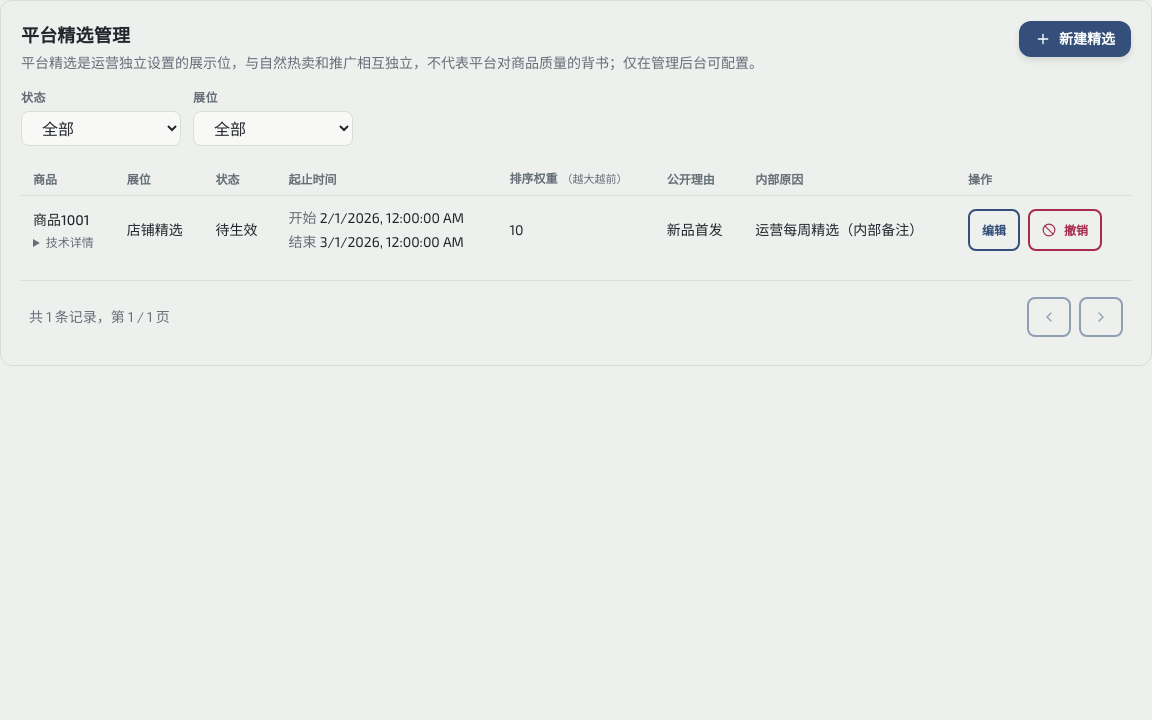
Test: AdminEditorialManager edit (T-MERCH-FE-003 §edit) › submits the exact update payload for feature 101 (all editable fields, never productId)
Check: the table named "平台精选列表" is shown, box x1=21 y1=162 x2=1131 y2=264
Click the button "编辑": (994, 230) x1=968 y1=209 x2=1020 y2=251
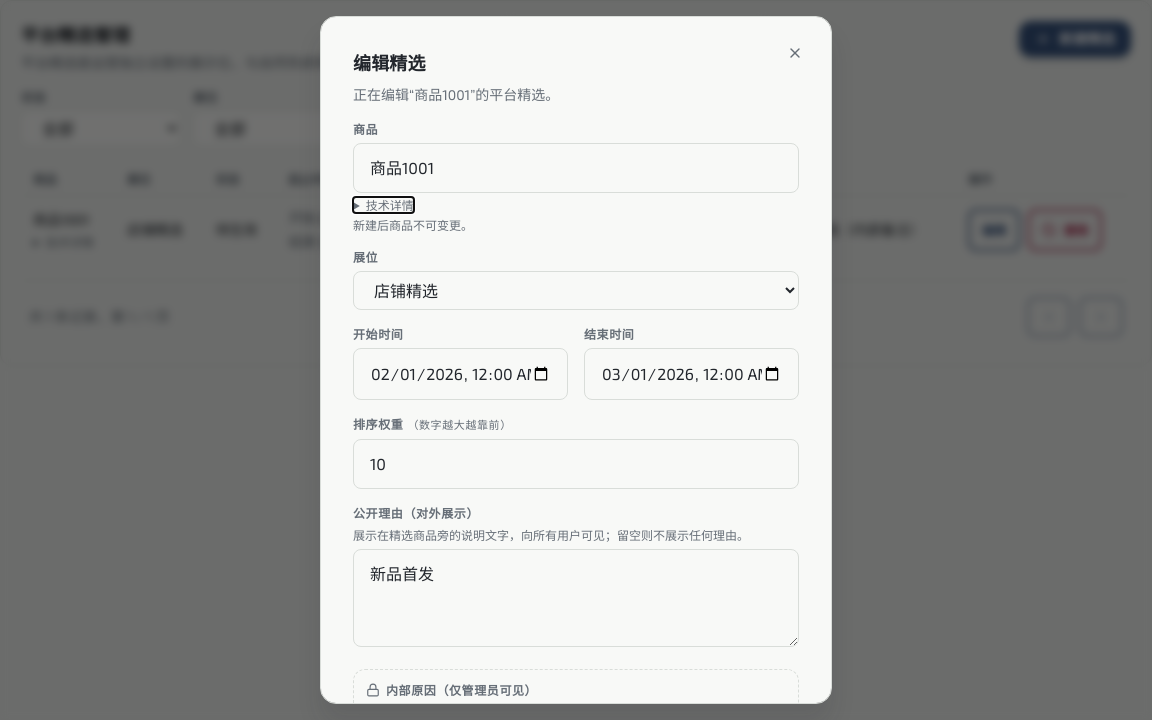
Select "分类精选" in the dropdown labelled "展位": (576, 290) x1=353 y1=271 x2=799 y2=310
Replace the text in the field labelled "开始时间" with "2099-06-01T09:30": (460, 374) x1=353 y1=348 x2=568 y2=400
Replace the text in the field labelled "结束时间" with "2099-07-01T18:45": (692, 374) x1=584 y1=348 x2=799 y2=400
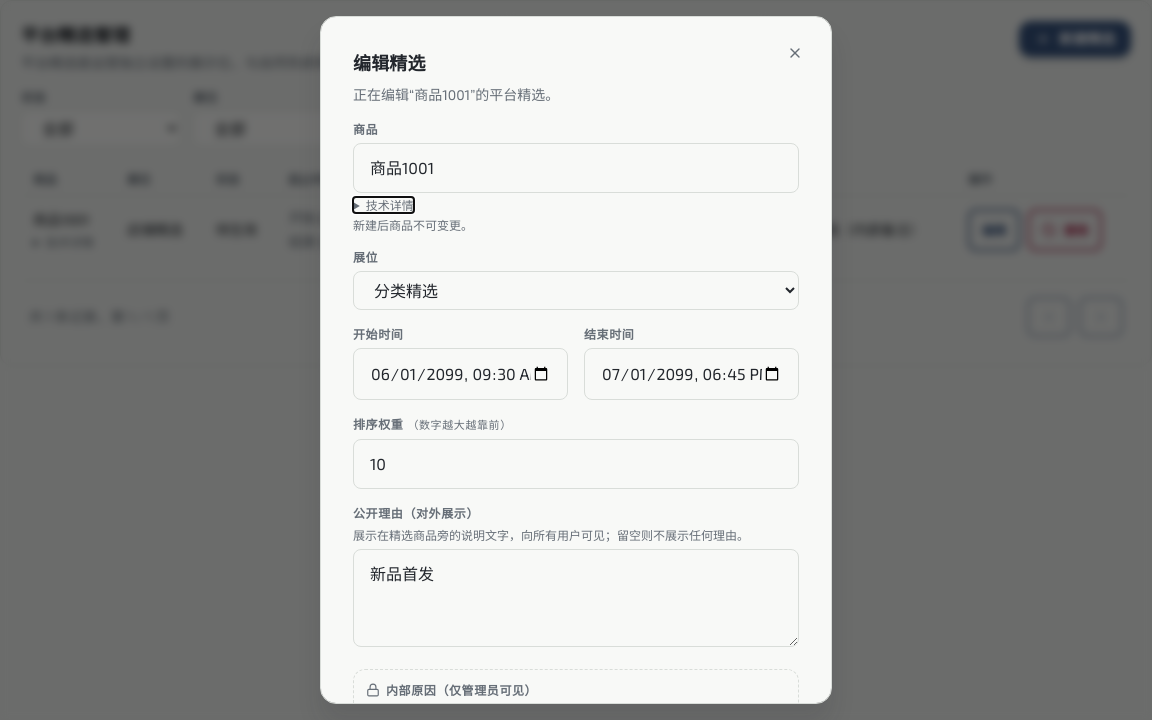
Replace the text in the number field labelled "权重" with "42": (576, 464) x1=353 y1=439 x2=799 y2=489
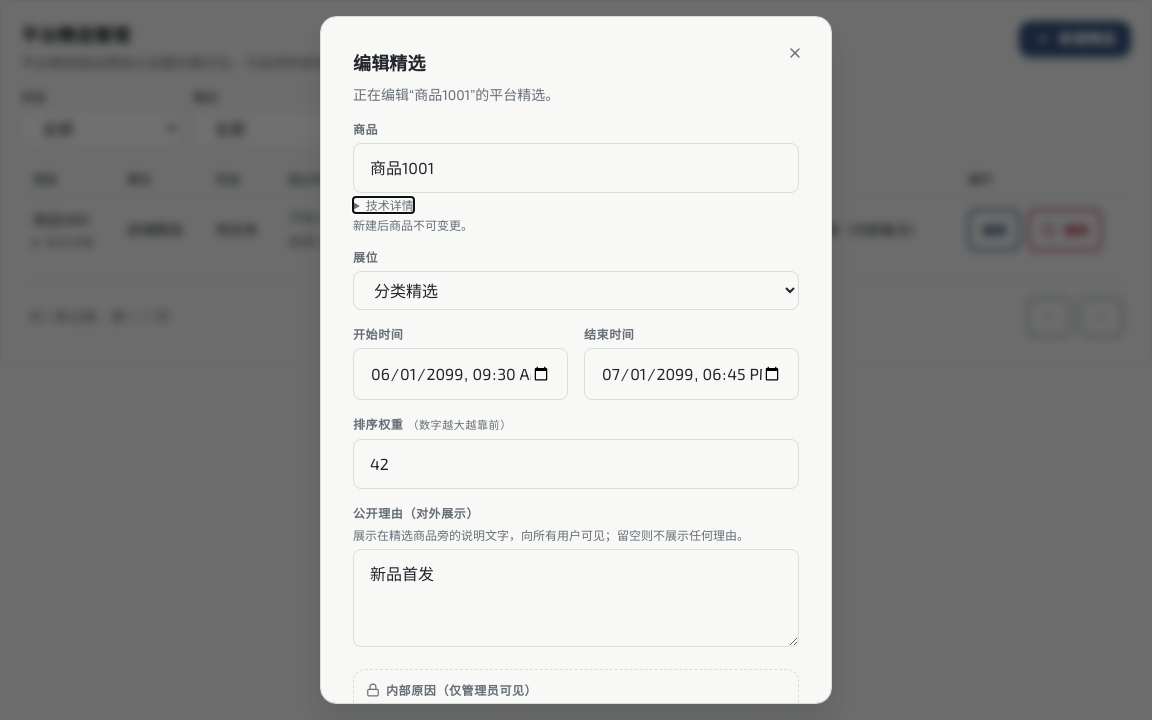
Replace the text in the text box labelled "公开理由（对外展示）" with "  更新公开理由  ": (576, 598) x1=353 y1=549 x2=799 y2=647
(page scrolled)
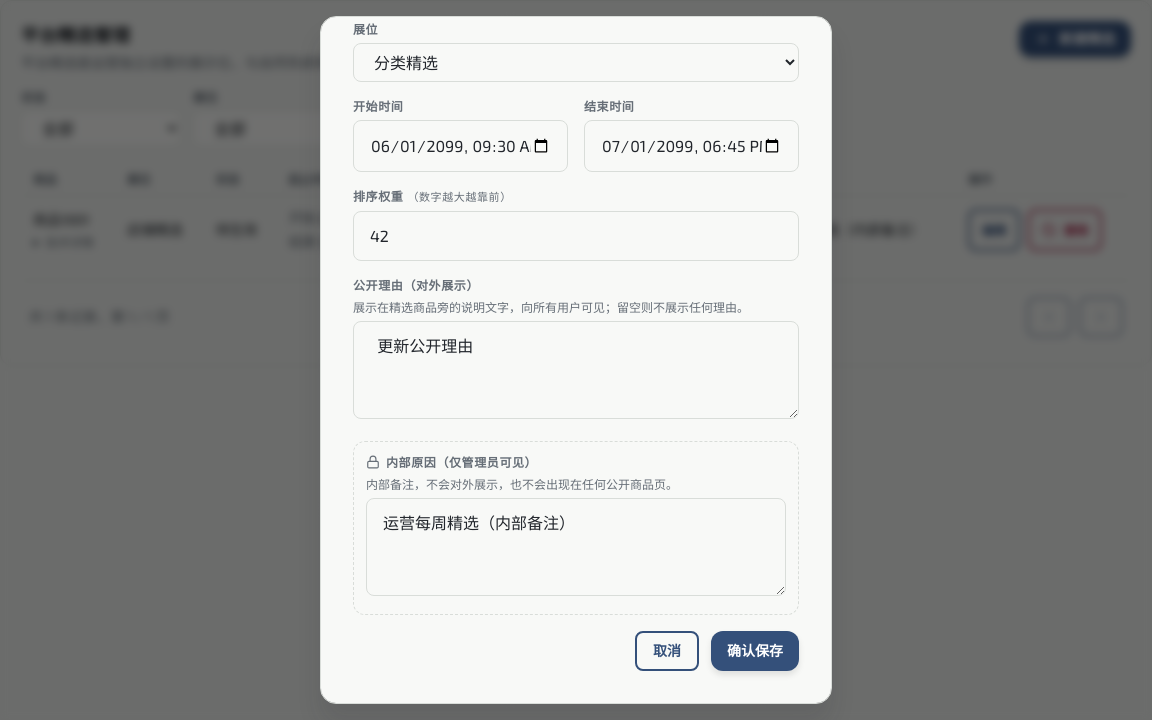
Replace the text in the text box labelled "内部原因（仅管理员可见）" with "  更新内部原因  ": (576, 547) x1=366 y1=498 x2=786 y2=596
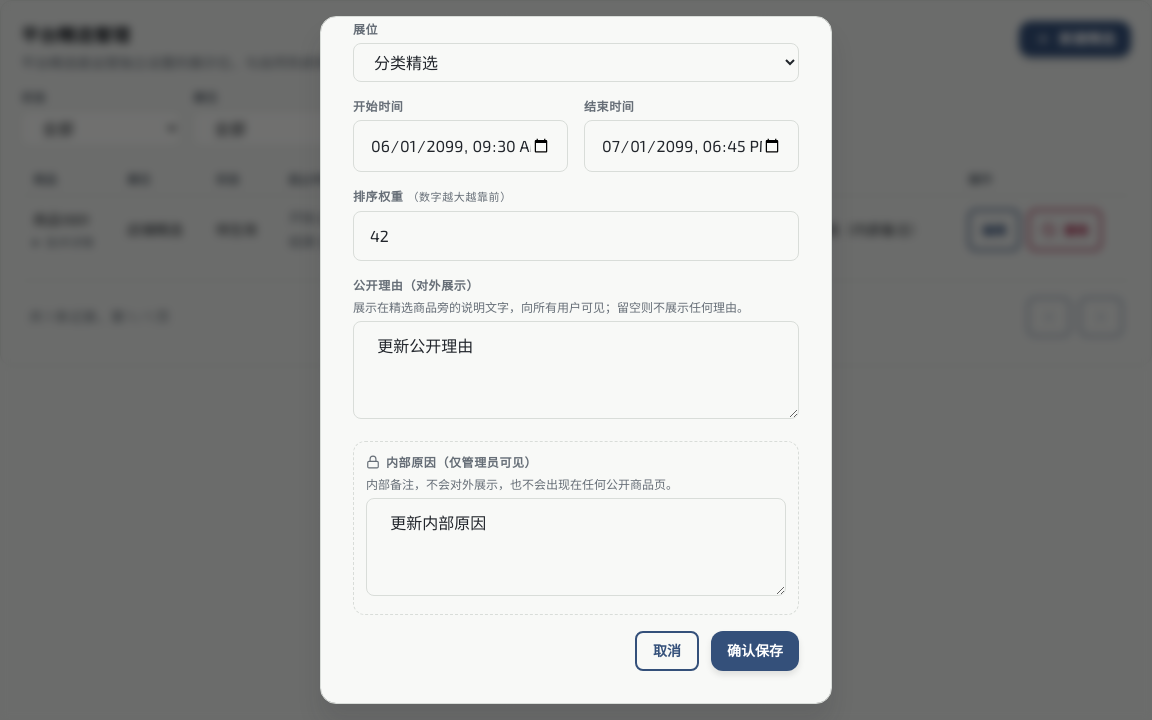
Click the button "确认保存": (755, 651) x1=711 y1=631 x2=799 y2=671
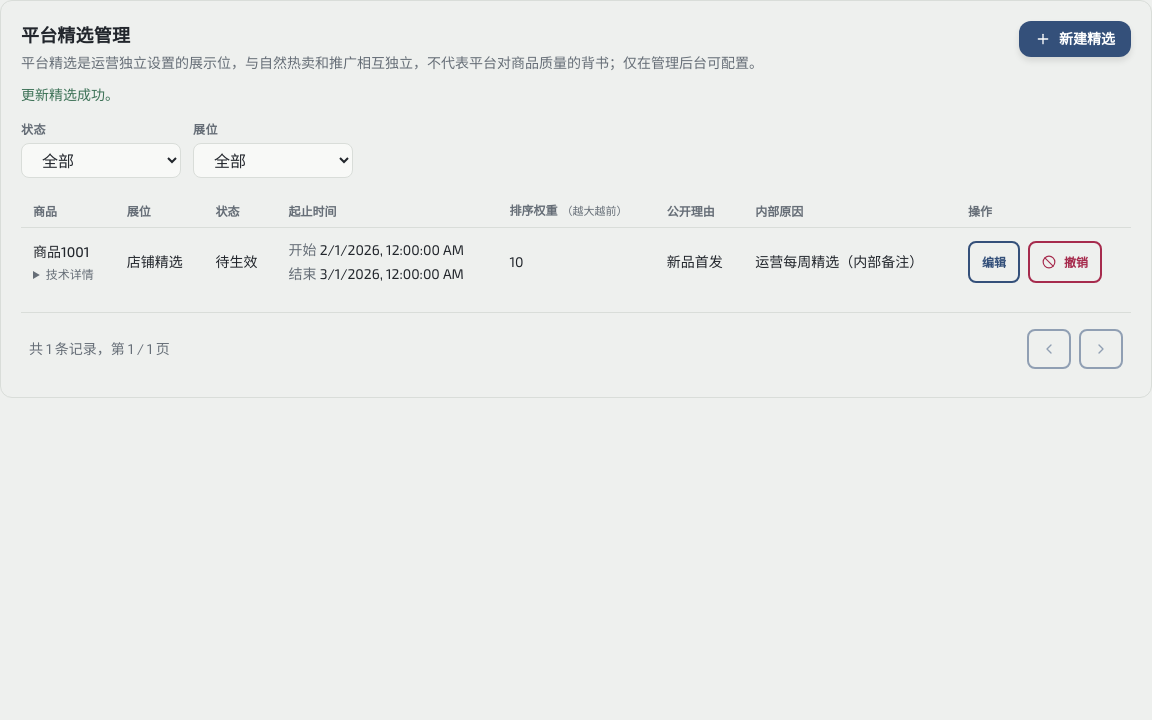
Check: the text "更新精选成功。" is shown, box x1=21 y1=86 x2=119 y2=103
Check: the dialog is gone
